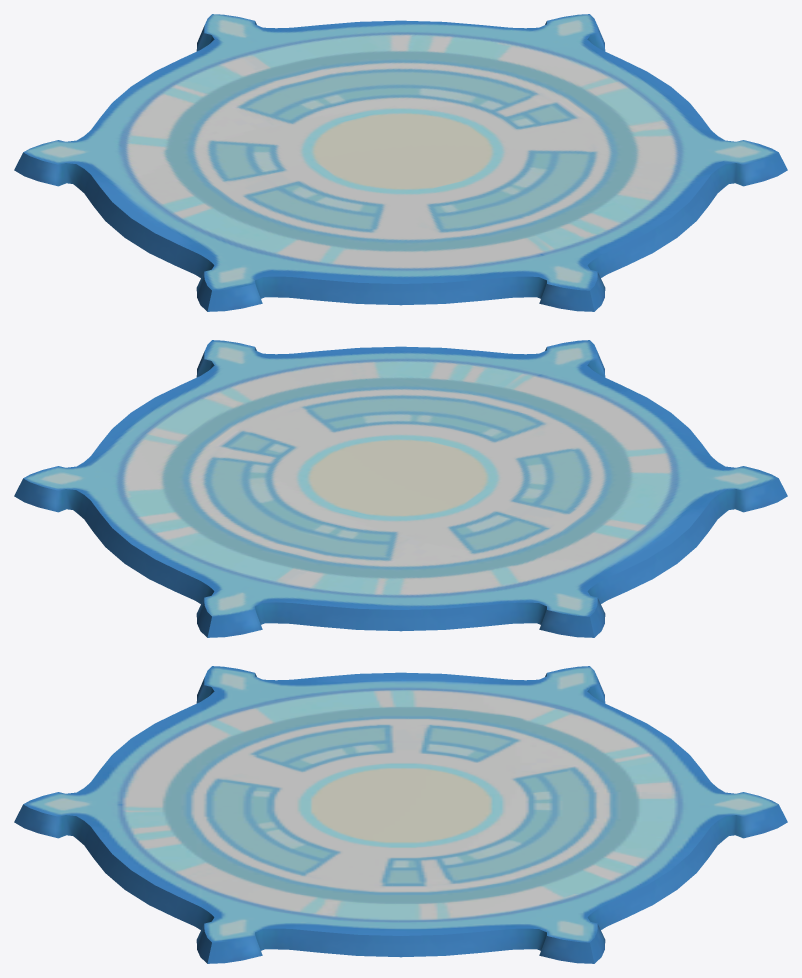
File: Homeworld_Ani_Interior_Common_Walldecoration_Prop_MechanicalDrawing_01_07_Vo.fbx
3 renders of one model, top to bottom at view 1: azimuth 30°, elevation 25°; view 2: azimuth 150°, elevation 25°; view 3: azimuth 270°, elevation 25°, orthographic.
Visible parts, largest first — view 1: Homeworld_Ani_Interior_Common_Walldecoration_Prop_Mechanical; view 2: Homeworld_Ani_Interior_Common_Walldecoration_Prop_Mechanical; view 3: Homeworld_Ani_Interior_Common_Walldecoration_Prop_Mechanical.
Boxes of the visible parts, box(x1,y1,x2,y2) form: Homeworld_Ani_Interior_Common_Walldecoration_Prop_Mechanical: box(14, 14, 787, 311); Homeworld_Ani_Interior_Common_Walldecoration_Prop_Mechanical: box(14, 340, 787, 637); Homeworld_Ani_Interior_Common_Walldecoration_Prop_Mechanical: box(14, 666, 787, 963).
Bounding box in the file's own units: 0.2378 × 0.00706 × 0.2746.
